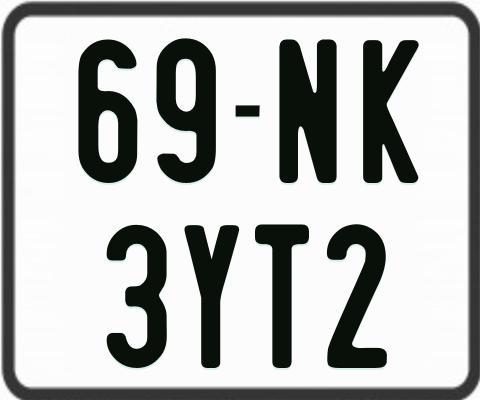2: (326, 223, 387, 370)
3: (104, 224, 166, 370)
6: (75, 37, 140, 183)
9: (155, 38, 216, 184)
K: (363, 37, 419, 180)
N: (277, 38, 339, 187)
T: (253, 222, 313, 365)
Y: (182, 223, 240, 368)
